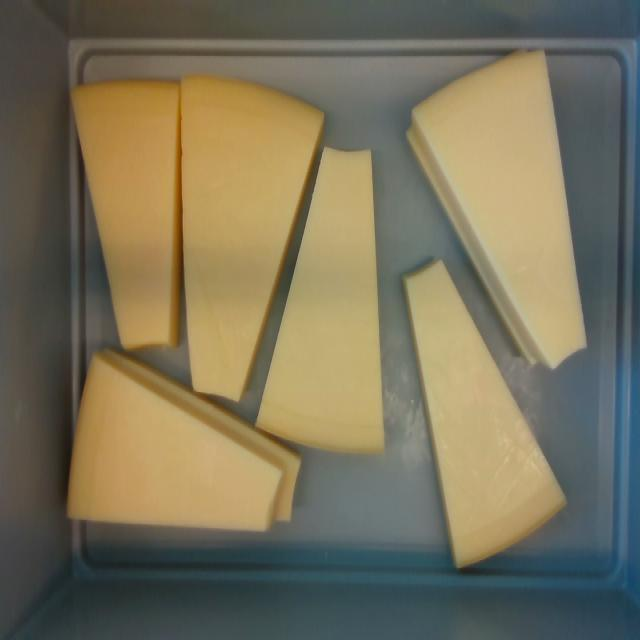Cheese: (405, 256, 569, 569), (416, 55, 581, 361), (181, 78, 322, 401), (257, 149, 383, 451), (69, 355, 279, 528), (76, 83, 174, 347)
